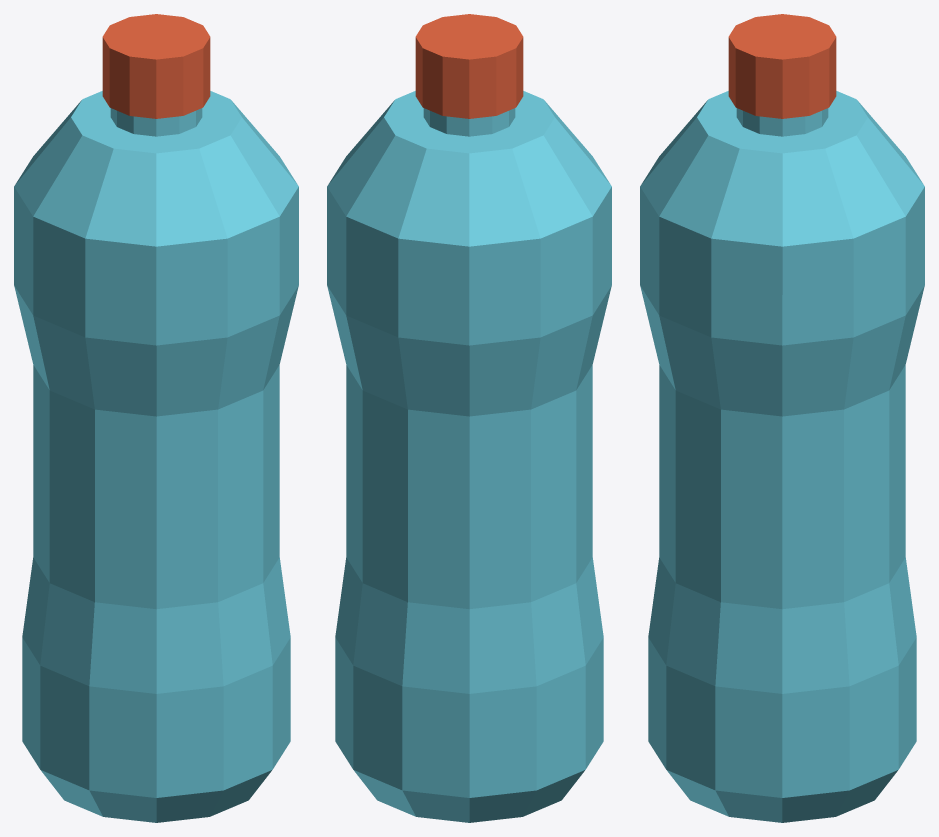
The model's file is BigBottle.fbx.
3 views of the same model, side by side, from view 1: azimuth 30°, elevation 25°; view 2: azimuth 150°, elevation 25°; view 3: azimuth 270°, elevation 25° (orthographic).
Parts seen in each view (by area): view 1: Cylinder.014, Cylinder.015; view 2: Cylinder.014, Cylinder.015; view 3: Cylinder.014, Cylinder.015.
Part boxes in pixels (x1,y1,x2,y2): Cylinder.014: [14, 91, 298, 822]; Cylinder.015: [102, 14, 210, 118]; Cylinder.014: [327, 91, 611, 822]; Cylinder.015: [415, 14, 523, 118]; Cylinder.014: [640, 91, 924, 822]; Cylinder.015: [728, 14, 836, 118].
Size of the model in its own units: 10.38 by 29.82 by 10.38.
